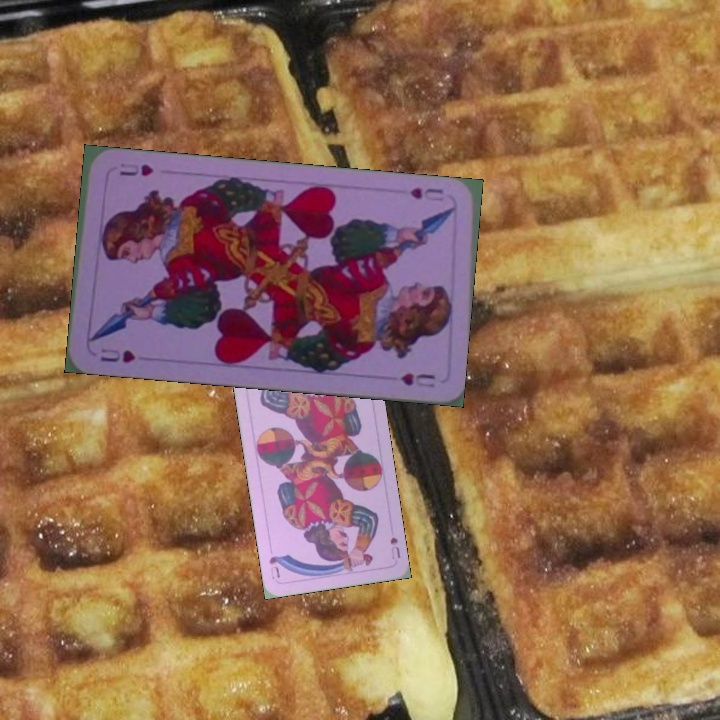HU: (96, 344, 138, 365), (406, 183, 447, 204)
SU: (386, 533, 403, 562)
